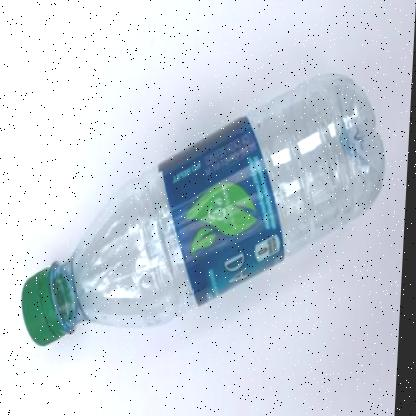Plastic: (25, 75, 386, 346)
